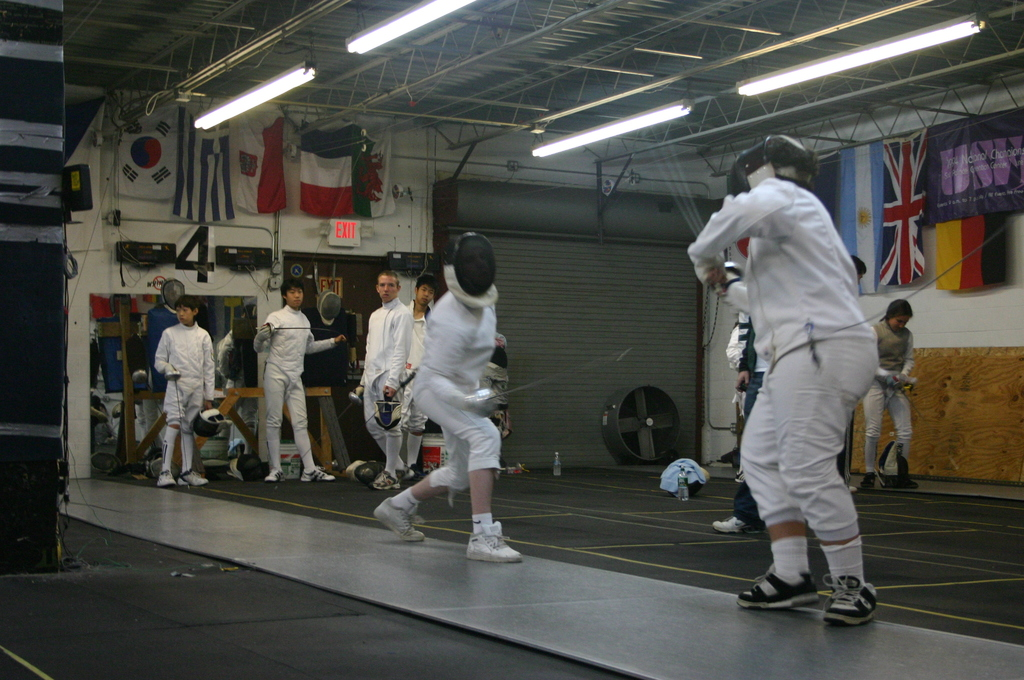Person: (685, 137, 878, 620), (372, 230, 520, 563), (251, 275, 347, 482), (349, 270, 416, 489), (152, 290, 215, 484), (711, 316, 764, 535), (862, 296, 921, 487), (404, 274, 434, 478)
